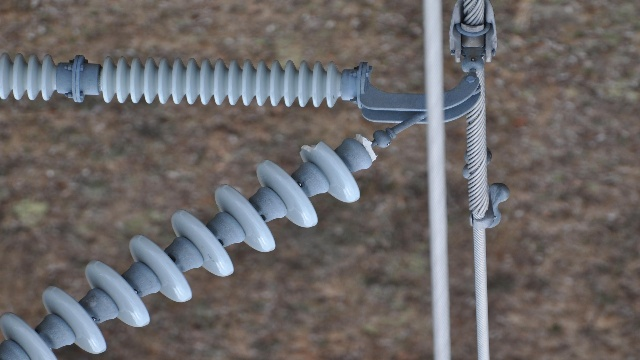broken_local: (299, 137, 331, 167), (355, 131, 378, 161)
insulator_unspecified: (1, 132, 379, 359), (0, 52, 338, 109)
